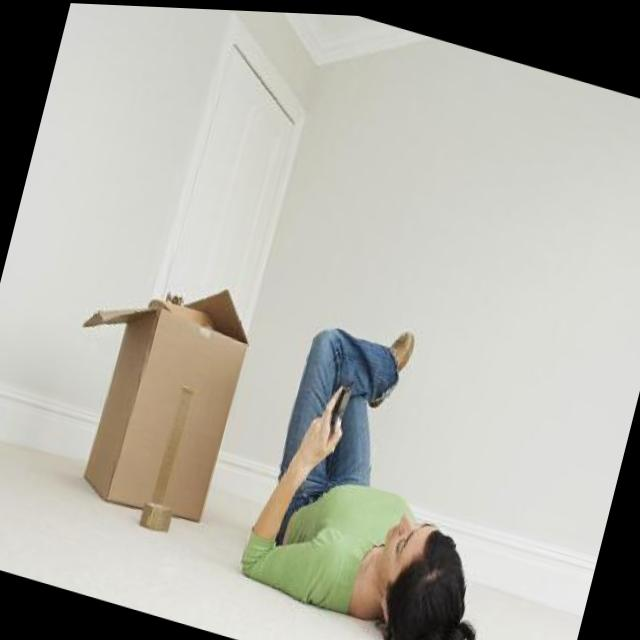box: (34, 230, 270, 568)
